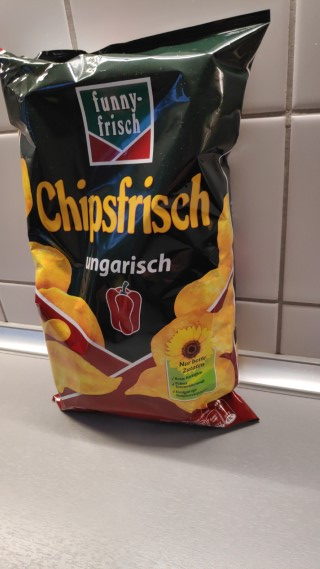chipsfrisch: (1, 7, 273, 433)
